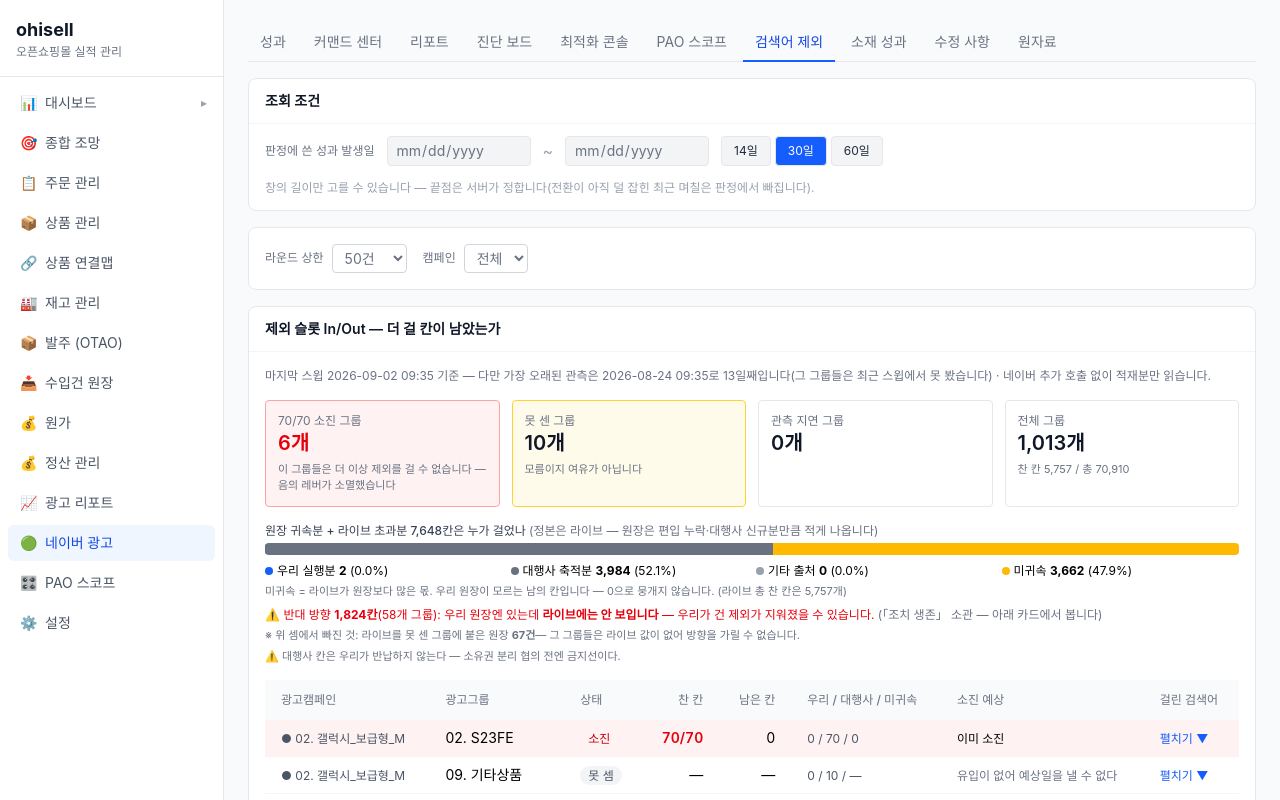
it: ★표 헤더와 본문 칸이 짝이다 (적대 리뷰 P2-3) › 펼침 버튼이 aria-expanded로 상태를 알린다
Click the button "펼치기 ▼" in the row of "02. S23FE" at (1184, 739), box [1160, 731, 1208, 747]
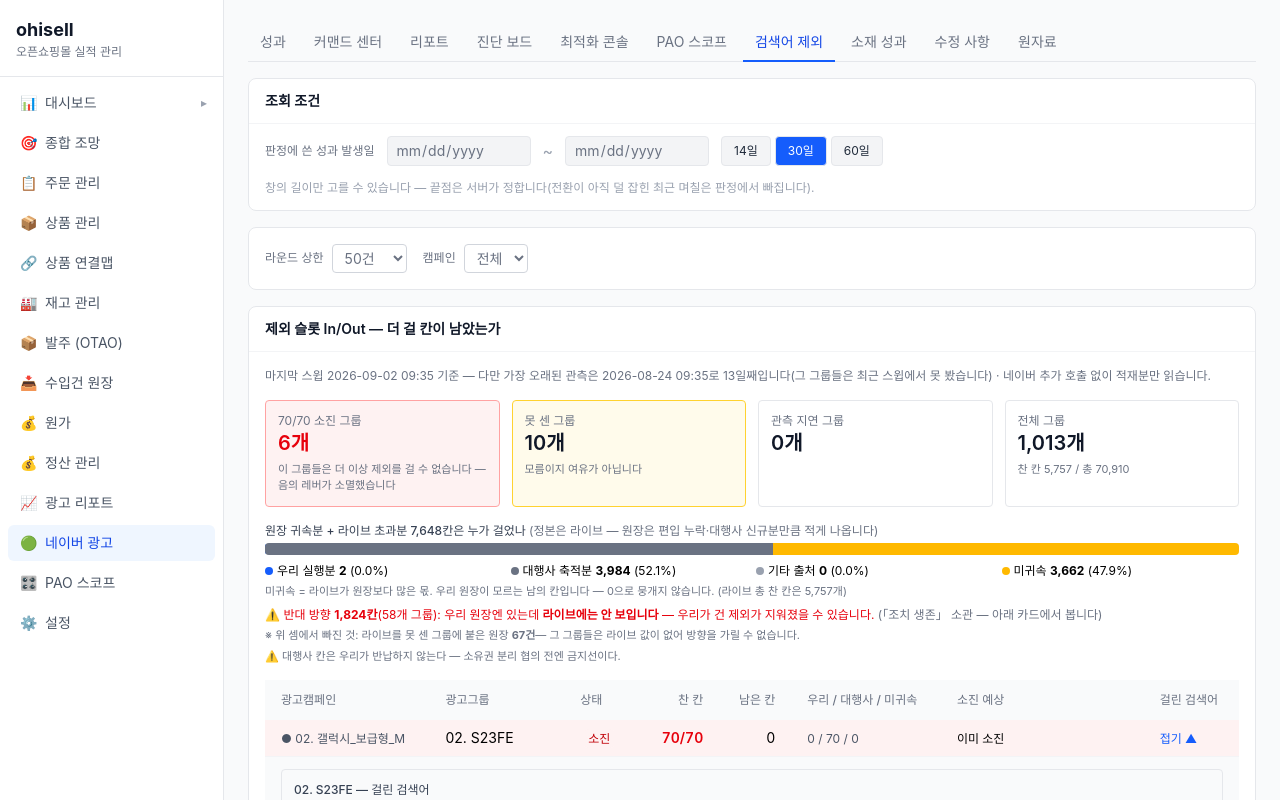
Now the button "접기 ▲" is expanded, box [1160, 731, 1197, 747]
